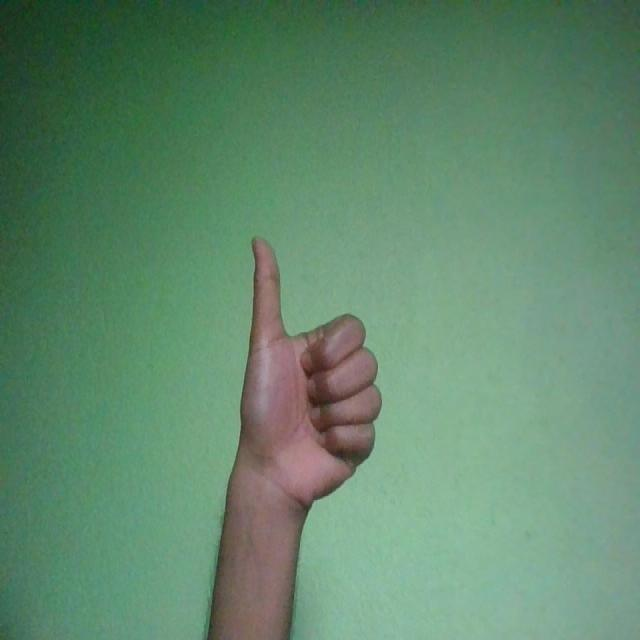Good Job: (240, 237, 382, 512)
